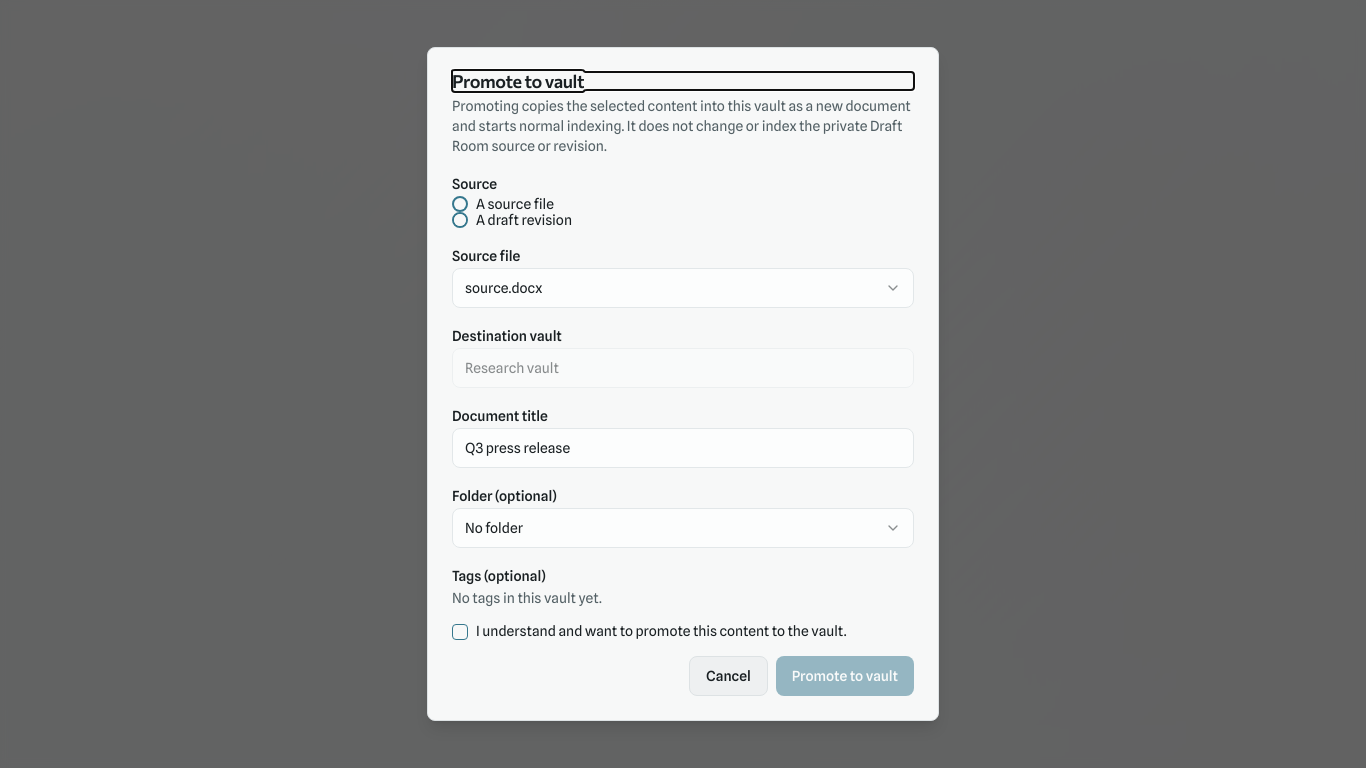
Scenario: DraftPromoteDialog › shows the new document identity and invalidates the right queries on success
The image size is (1366, 768).
Click the checkbox named "understand and want to promote". click: {"x": 460, "y": 632}
box: [452, 624, 468, 640]
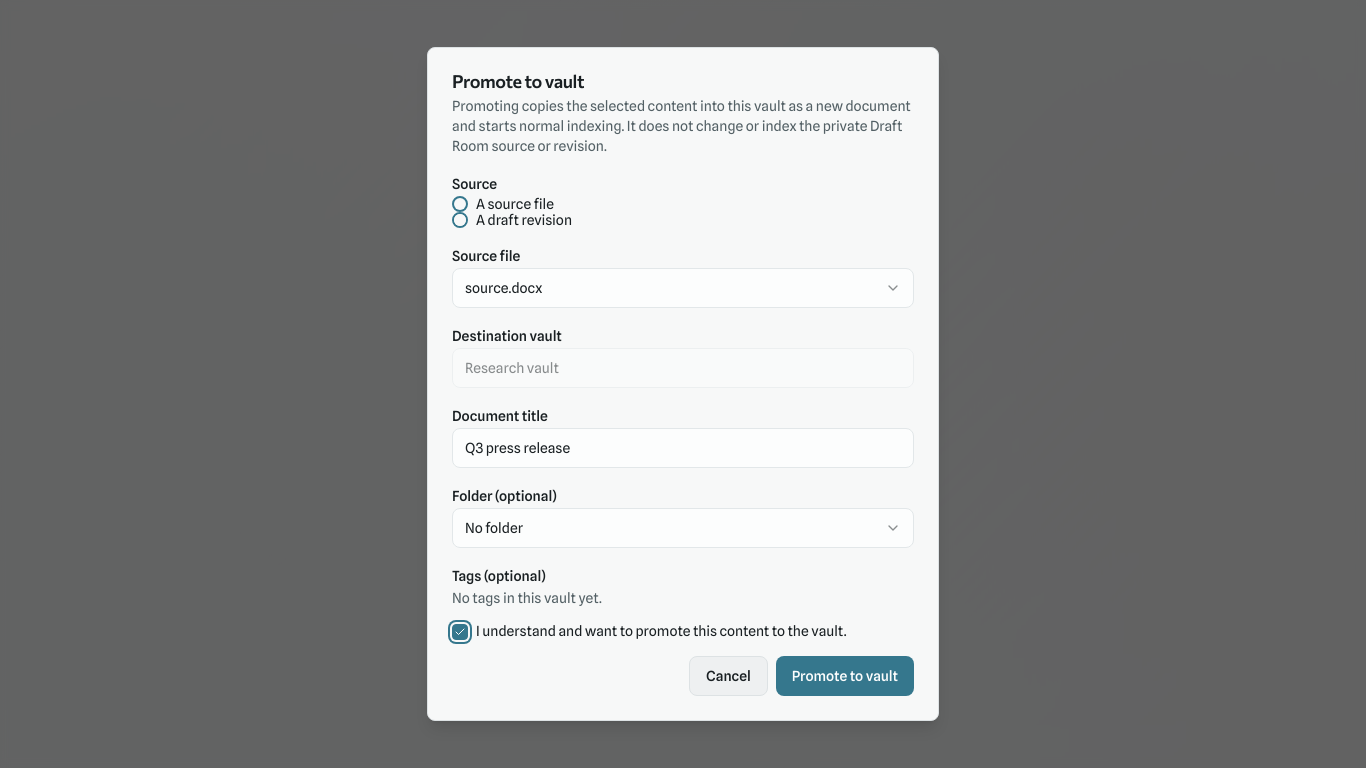
Click the button "Promote to vault". click: {"x": 845, "y": 676}
box: [776, 656, 914, 696]
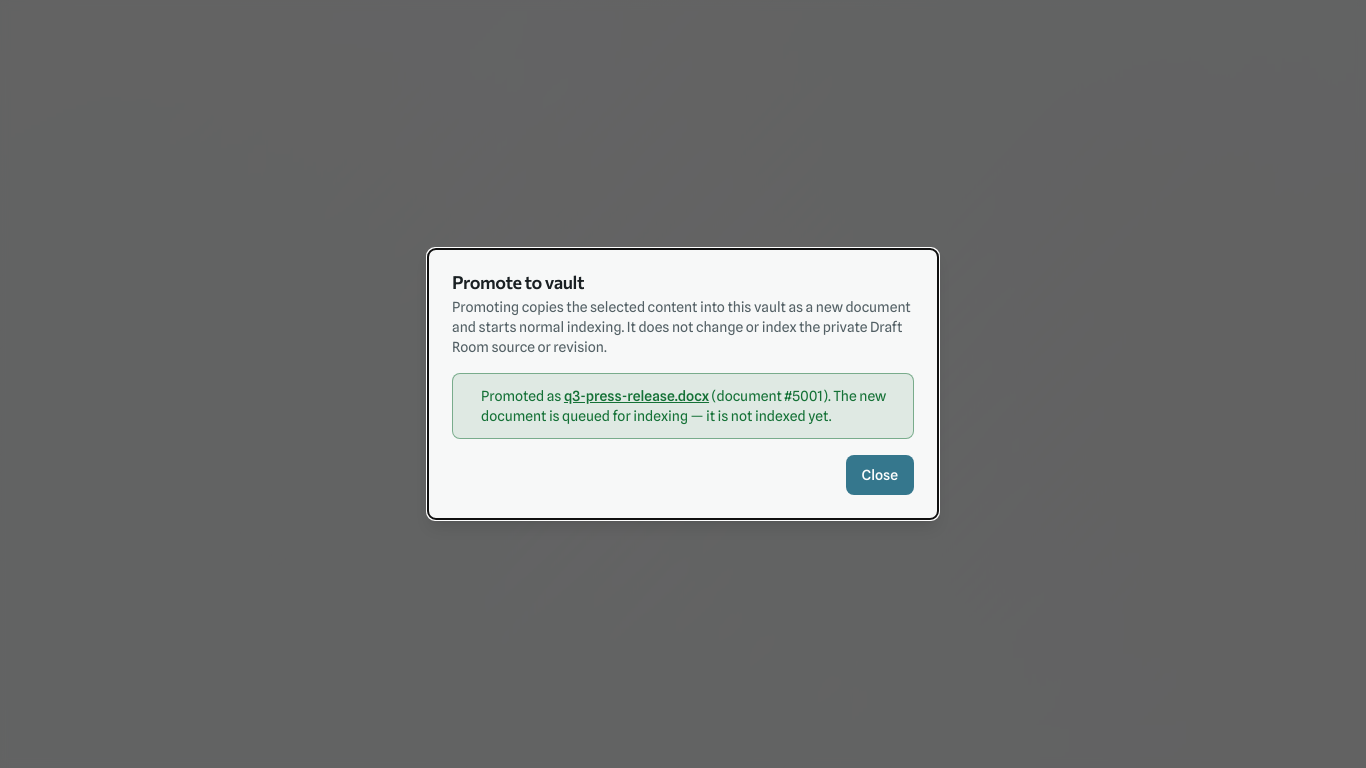
Expected: the link "q3-press-release.docx" is shown, [564, 388, 709, 404]
Expected: the text "document #5001" is shown, [481, 386, 897, 426]
Expected: the text "queued for indexing" is shown, [481, 388, 886, 424]
